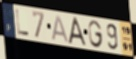7: (31, 10, 46, 40)
9: (107, 23, 119, 51)
A: (67, 16, 88, 48), (51, 14, 70, 44)
G: (87, 19, 104, 49)
L: (15, 8, 30, 37)
